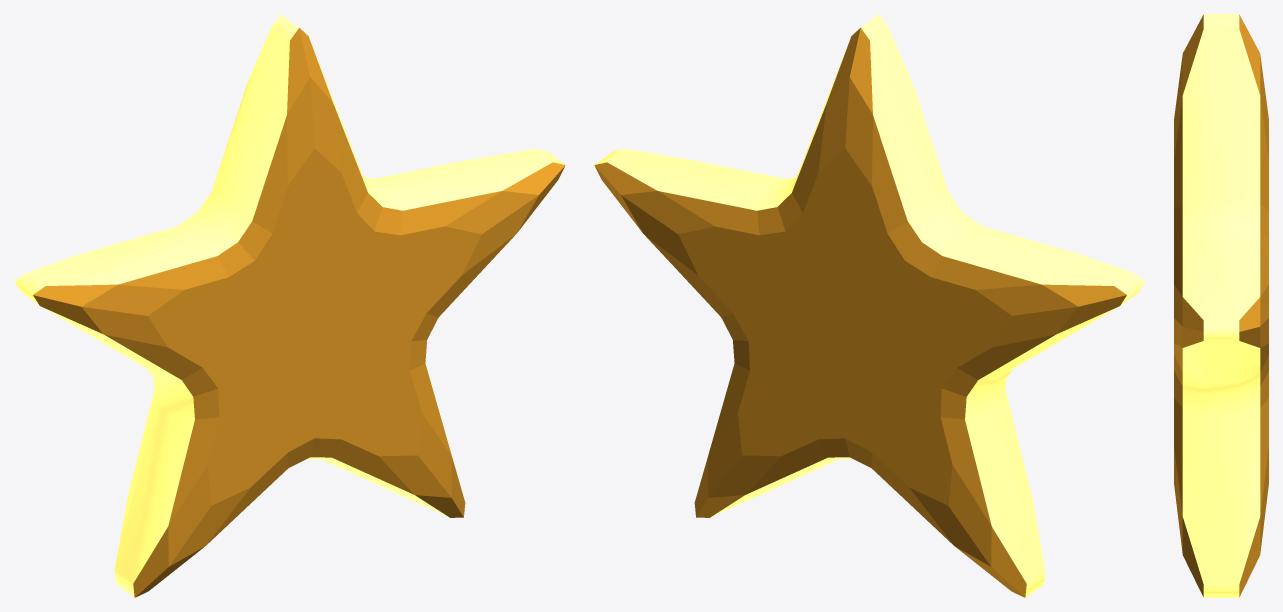
The model's file is giggle-star.glb.
3 renders of one model, left to right at view 1: azimuth 30°, elevation 25°; view 2: azimuth 150°, elevation 25°; view 3: azimuth 270°, elevation 25°, orthographic. The views are drawn at different scales.
Parts seen in each view (by area): view 1: GiggleStar; view 2: GiggleStar; view 3: GiggleStar.
Part boxes in pixels (box(x1,y1,x2,y2)): GiggleStar: box(14, 14, 565, 597); GiggleStar: box(594, 14, 1145, 597); GiggleStar: box(1174, 14, 1268, 597).
Bounding box in the file's own units: 0.9939 × 0.9453 × 0.16.
